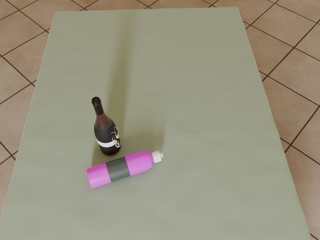bottle: (87, 151, 163, 188), (92, 97, 121, 156)
